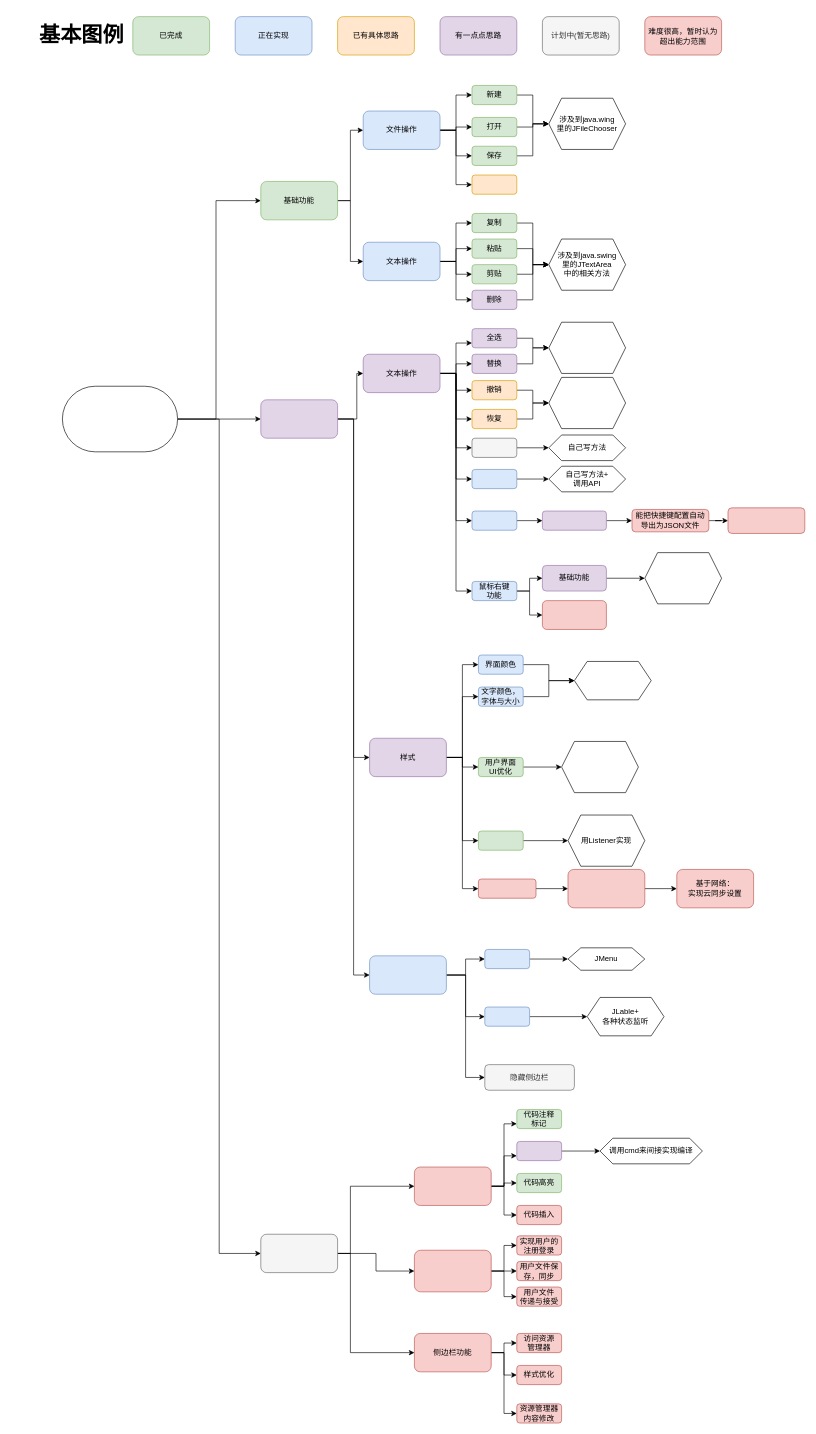
The diagram is 816 pixels wide and 1434 high, and some of its shapes have lost their labels. Here are the shapes that lost their labels. From the top down, the box of each, then its label:
(471, 174, 517, 194): 退出
(548, 322, 626, 373): 需要结合JTestArea 中的方法以及自己 动手写的方法
(62, 386, 178, 452): Editor Master
(260, 399, 338, 438): 进阶功能
(548, 377, 626, 429): 调用JTestArea中 的相关方法
(471, 438, 517, 457): 自动换行
(471, 469, 517, 489): 翻译
(471, 510, 517, 530): 基础快捷键
(542, 510, 606, 530): 能够自定义快捷键
(727, 507, 805, 533): 基于网络： 同步上传该配置文件 实现云同步设置
(644, 552, 722, 604): 基本框架可以调用 JPopupMenu， 但具体内容需要自己实现
(542, 600, 606, 629): 根据所选内容 定制右键菜单
(574, 661, 651, 700): 调用大量的方法， 修改并保存各种变量
(561, 741, 638, 793): javax.swing. UIManager. setLookAndFeel
(478, 830, 523, 850): 行号列号 显示
(478, 878, 536, 898): 全部自定义
(567, 869, 645, 908): 导出为JSON 配置文件
(369, 955, 446, 994): 系统框架
(484, 949, 530, 969): 菜单栏
(484, 1006, 530, 1026): 状态栏
(516, 1141, 562, 1161): 用JDK对文件进行编译
(414, 1166, 491, 1205): 代码编写
(260, 1234, 338, 1273): 终极功能
(414, 1250, 491, 1292): 基于网络
